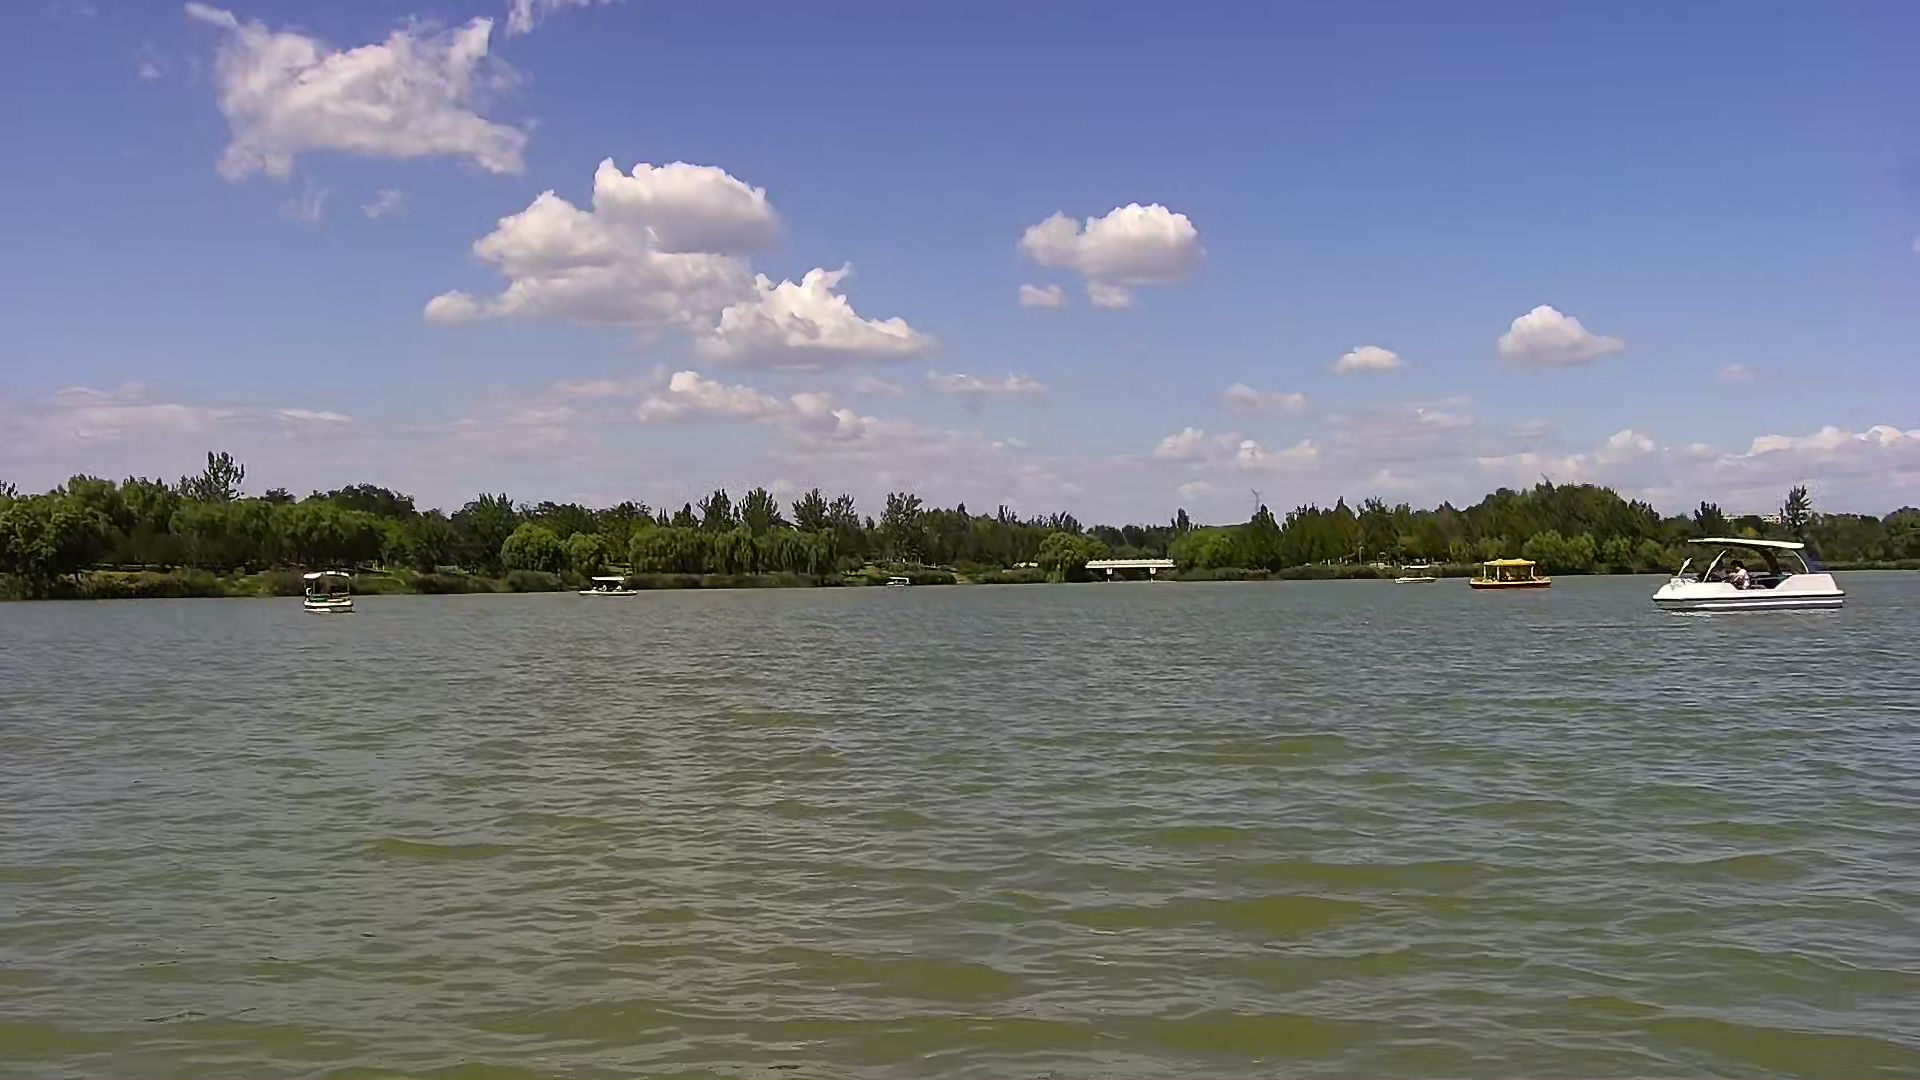boat: (1648, 531, 1844, 613), (1472, 560, 1552, 587), (301, 571, 351, 609), (578, 571, 636, 593), (1389, 567, 1436, 585)
bridge: (1091, 556, 1170, 587)
